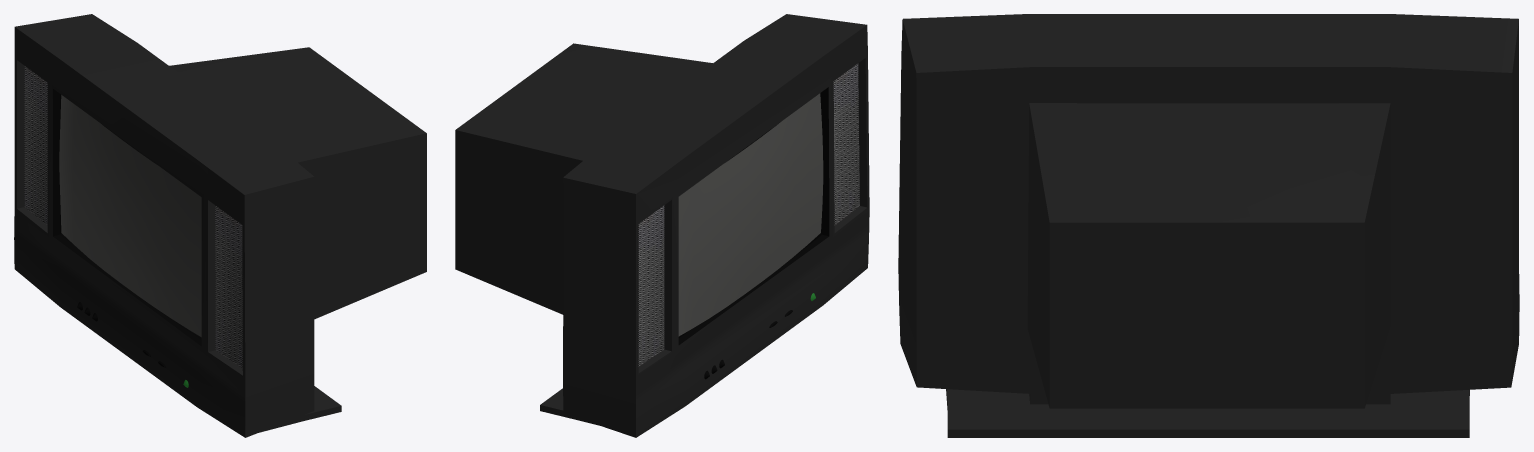
The picture shows the model from 3 angles, left to right: view 1: azimuth 30°, elevation 25°; view 2: azimuth 150°, elevation 25°; view 3: azimuth 270°, elevation 25°; orthographic projection. The views are drawn at different scales.
Parts seen in each view (by area): view 1: Cube; view 2: Cube; view 3: Cube.
Part boxes in pixels (bbox=[...]): Cube: bbox=[14, 14, 426, 437]; Cube: bbox=[455, 14, 869, 437]; Cube: bbox=[898, 14, 1519, 437].
Bounding box in the file's own units: 2.02 × 2.07 × 3.35.
5 materials, 1 textured.
